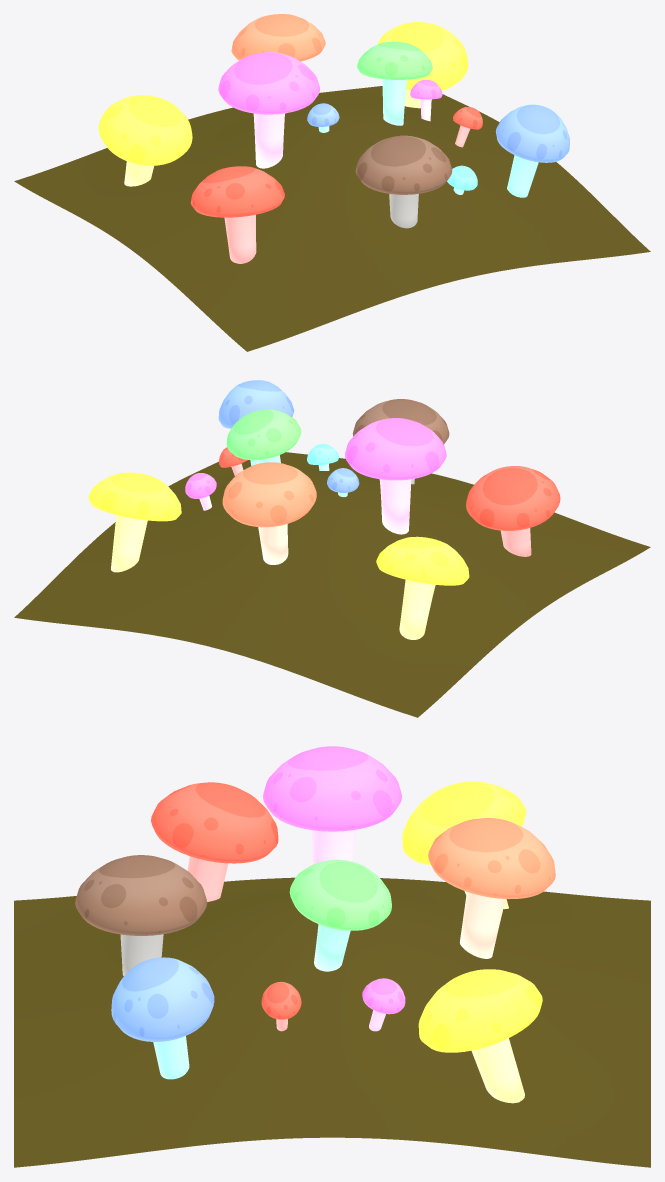
File: colourful_mushrooms.glb
3 renders of one model, top to bottom at view 1: azimuth 30°, elevation 25°; view 2: azimuth 150°, elevation 25°; view 3: azimuth 270°, elevation 25°, orthographic. The views are drawn at different scales.
Visible parts, largest first — view 1: pPlane4, pCylinder3, pCylinder9, pCylinder8, pCylinder7, pCylinder5, pCylinder4, pCylinder10, pCylinder6, pCylinder13, pCylinder14, pCylinder12 (+1 smaller); view 2: pPlane4, pCylinder3, pCylinder6, pCylinder7, pCylinder9, pCylinder10, pCylinder4, pCylinder5, pCylinder8, pCylinder13, pCylinder12, pCylinder11; view 3: pPlane4, pCylinder3, pCylinder6, pCylinder10, pCylinder8, pCylinder7, pCylinder5, pCylinder4, pCylinder9, pCylinder13, pCylinder14.
Boxes of the visible parts, bbox=[...] form: pPlane4: bbox=[14, 86, 650, 351]; pCylinder3: bbox=[218, 52, 319, 168]; pCylinder9: bbox=[98, 95, 192, 186]; pCylinder8: bbox=[355, 135, 452, 228]; pCylinder7: bbox=[190, 166, 284, 263]; pCylinder5: bbox=[495, 104, 569, 197]; pCylinder4: bbox=[357, 41, 432, 125]; pCylinder10: bbox=[377, 22, 468, 108]; pCylinder6: bbox=[231, 14, 325, 113]; pCylinder13: bbox=[410, 80, 442, 121]; pCylinder14: bbox=[453, 107, 482, 147]; pCylinder12: bbox=[307, 103, 339, 132]; pPlane4: bbox=[14, 452, 650, 717]; pCylinder3: bbox=[345, 418, 446, 534]; pCylinder6: bbox=[222, 462, 316, 564]; pCylinder7: bbox=[466, 466, 560, 556]; pCylinder9: bbox=[376, 536, 469, 639]; pCylinder10: bbox=[88, 472, 181, 572]; pCylinder4: bbox=[226, 409, 301, 463]; pCylinder5: bbox=[218, 380, 294, 465]; pCylinder8: bbox=[352, 399, 449, 484]; pCylinder13: bbox=[185, 473, 216, 510]; pCylinder12: bbox=[327, 468, 359, 496]; pCylinder11: bbox=[307, 444, 338, 470]; pPlane4: bbox=[14, 877, 650, 1167]; pCylinder3: bbox=[263, 746, 401, 864]; pCylinder6: bbox=[428, 818, 555, 958]; pCylinder10: bbox=[418, 969, 542, 1103]; pCylinder8: bbox=[75, 855, 206, 975]; pCylinder7: bbox=[151, 782, 278, 901]; pCylinder5: bbox=[111, 957, 214, 1079]; pCylinder4: bbox=[289, 859, 391, 971]; pCylinder9: bbox=[402, 781, 526, 909]; pCylinder13: bbox=[362, 978, 405, 1031]; pCylinder14: bbox=[261, 981, 301, 1031].
Size of the model in its own units: 9.43 by 3.88 by 9.43.
Materials: 9 (8 with a texture image).
